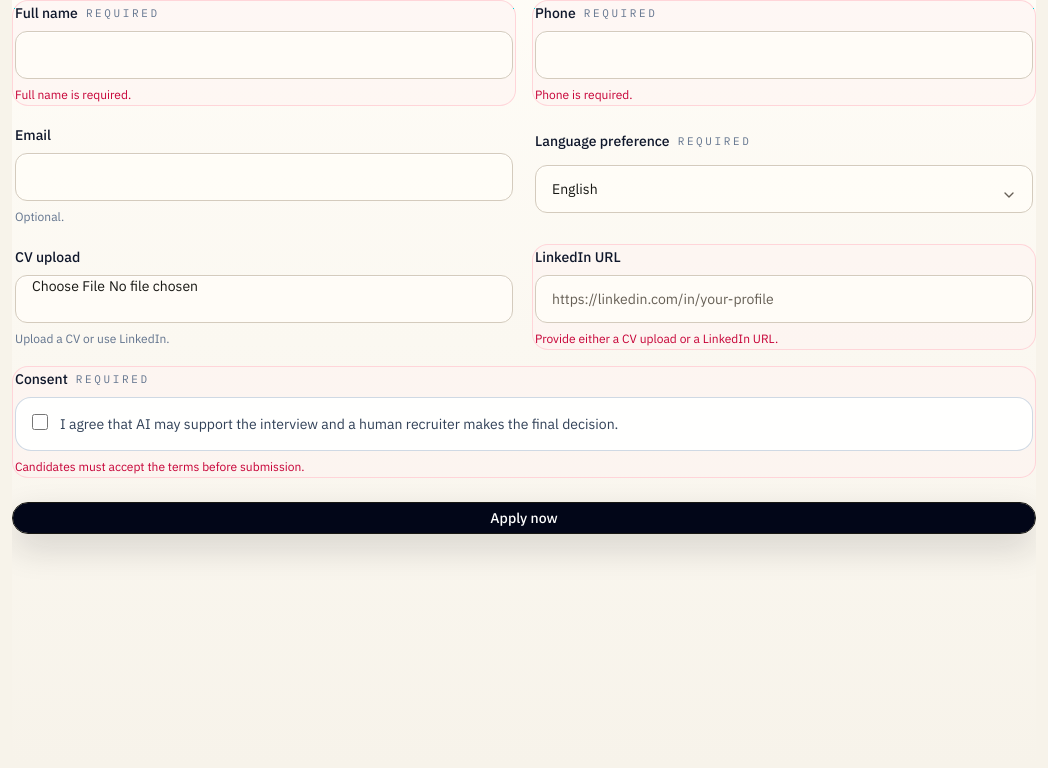
Test: public apply form errors › shows a stable error when the server response body is not valid json
The width and height of the screenshot is (1048, 768).
Type "Pablo Antonio" into the field labelled "Full name Required Full name is required.". click: coordinates (264, 55)
box: left=15, top=31, right=513, bottom=79
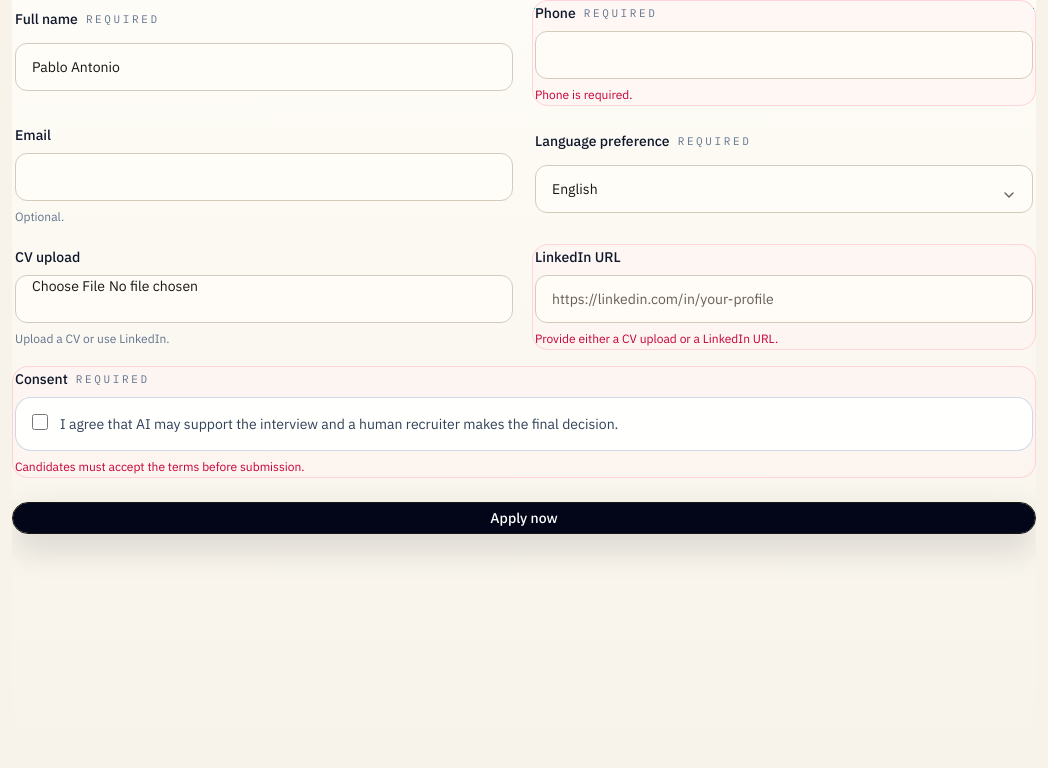
Type "+34 600 123 456" into the field labelled "Phone Required Phone is required.". click: coordinates (784, 55)
box: left=535, top=31, right=1033, bottom=79
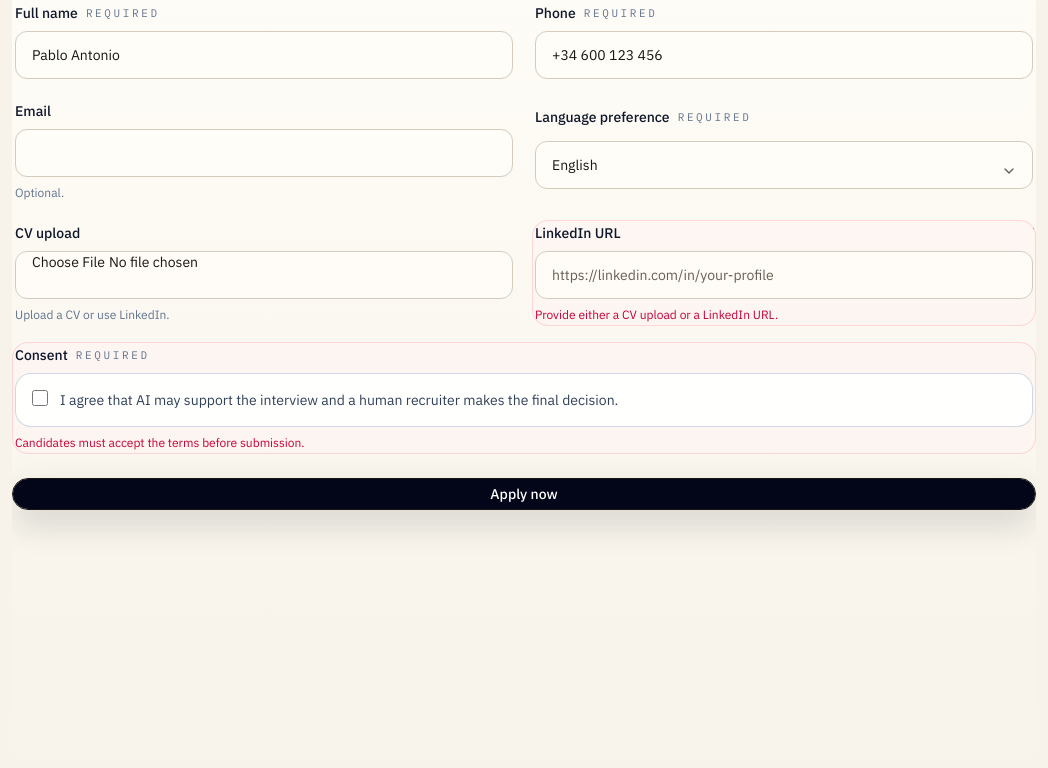
Type "https://linkedin.com/in/pablo-antonio" into the field labelled "LinkedIn URL Provide either a CV upload or a LinkedIn URL.". click: coordinates (784, 275)
box: left=535, top=251, right=1033, bottom=299
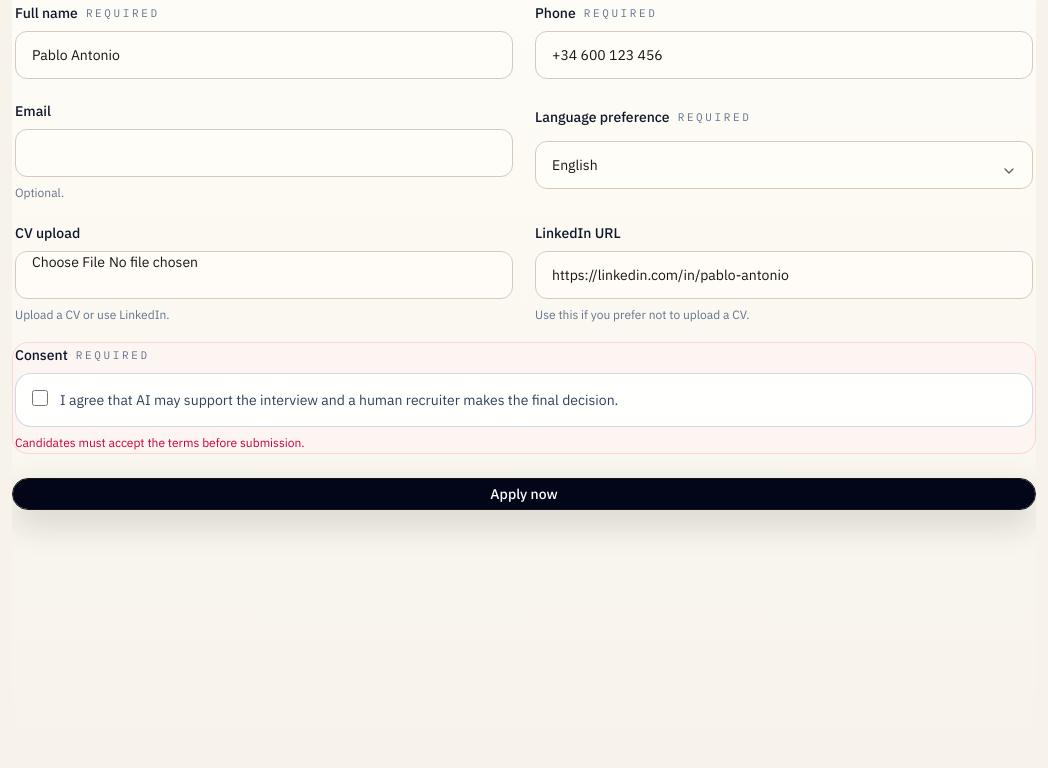
Click the checkbox named "Accept terms". click: coordinates (40, 398)
box: left=32, top=390, right=48, bottom=406
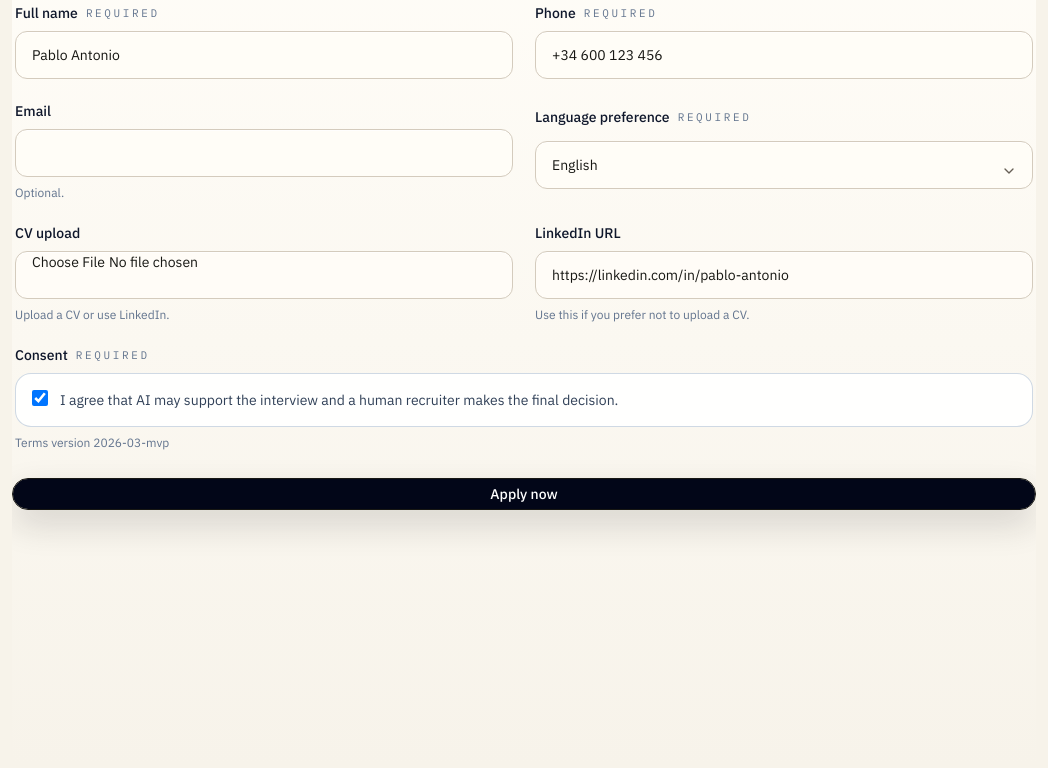
Click the button "Apply now". click: coordinates (524, 494)
box: left=12, top=478, right=1036, bottom=510
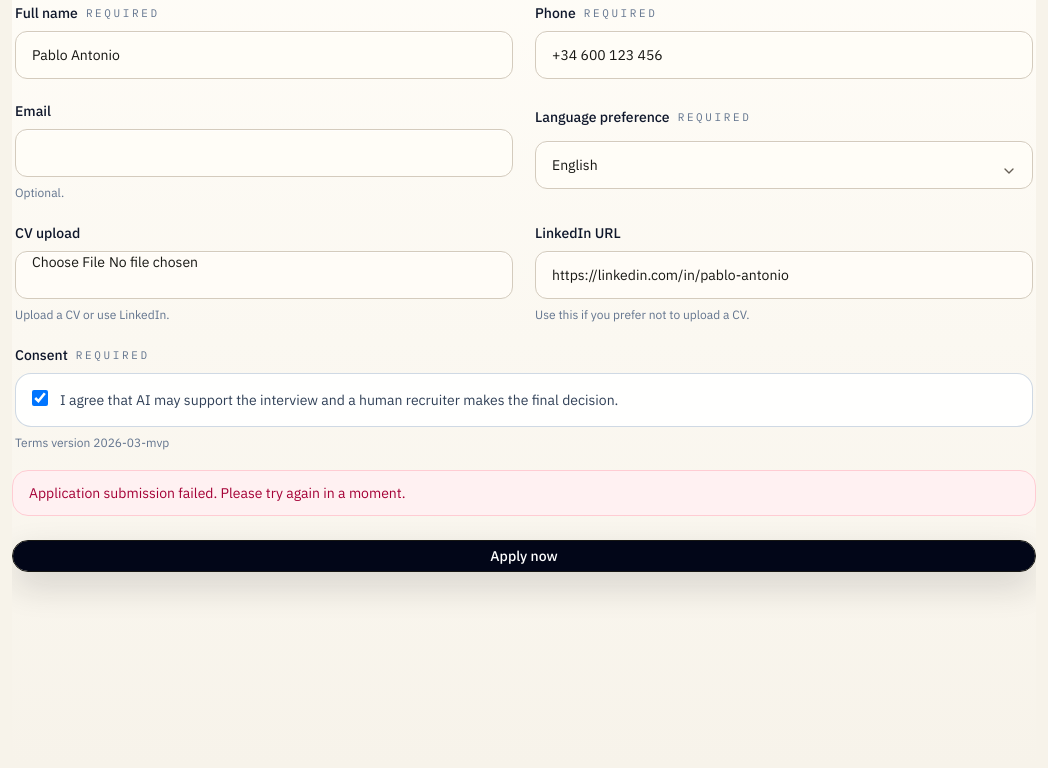
Now the text "Application submission failed. Please try again in a moment." is shown, box left=12, top=470, right=1036, bottom=516
